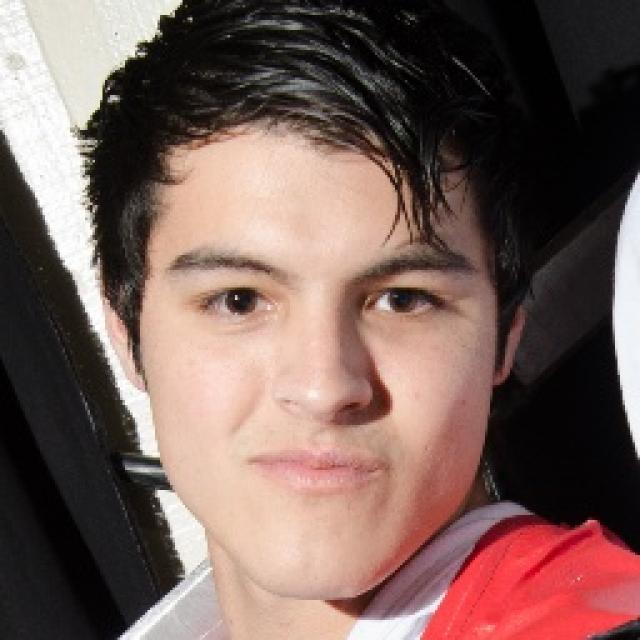earlobe: (104, 288, 148, 396), (493, 296, 527, 389)
